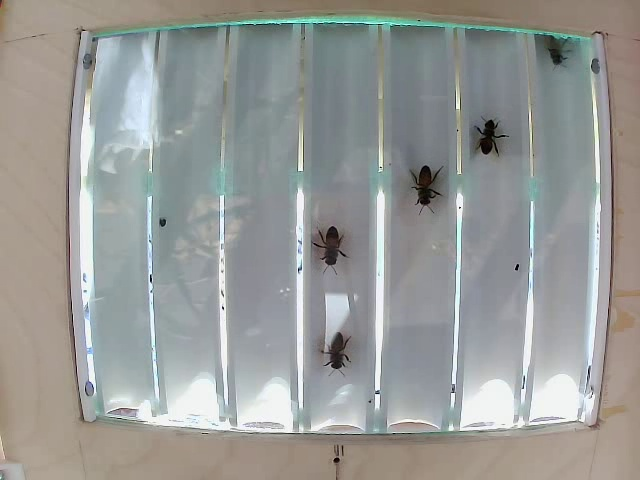bee: (406, 155, 453, 213), (309, 223, 341, 280), (322, 326, 361, 371), (539, 33, 578, 76), (486, 115, 514, 173)
